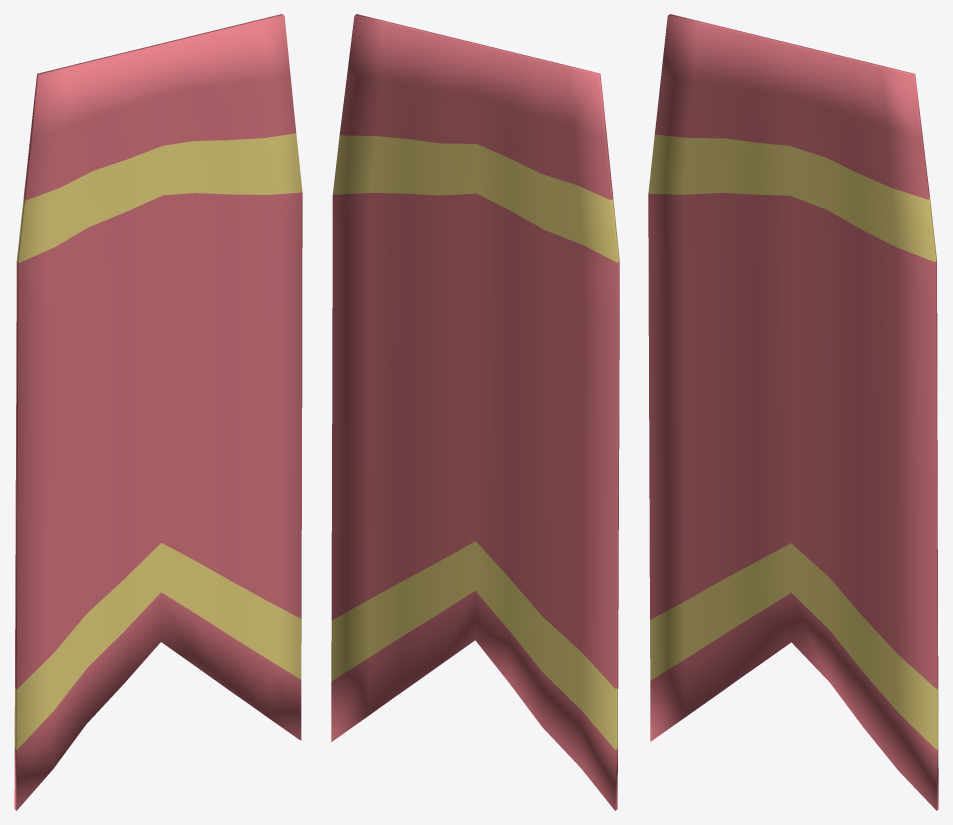
The model's file is banner_red_c.glb.
3 views of the same model, side by side, from view 1: azimuth 30°, elevation 25°; view 2: azimuth 150°, elevation 25°; view 3: azimuth 330°, elevation 25° (orthographic).
Parts seen in each view (by area): view 1: banner_red_c; view 2: banner_red_c; view 3: banner_red_c.
Boxes of the visible parts, left/top/right/bottom form: banner_red_c: left=14, top=14, right=302, bottom=810; banner_red_c: left=331, top=14, right=619, bottom=810; banner_red_c: left=648, top=14, right=938, bottom=810.
Size of the model in its own units: 1.1 by 2.7 by 0.0533.
